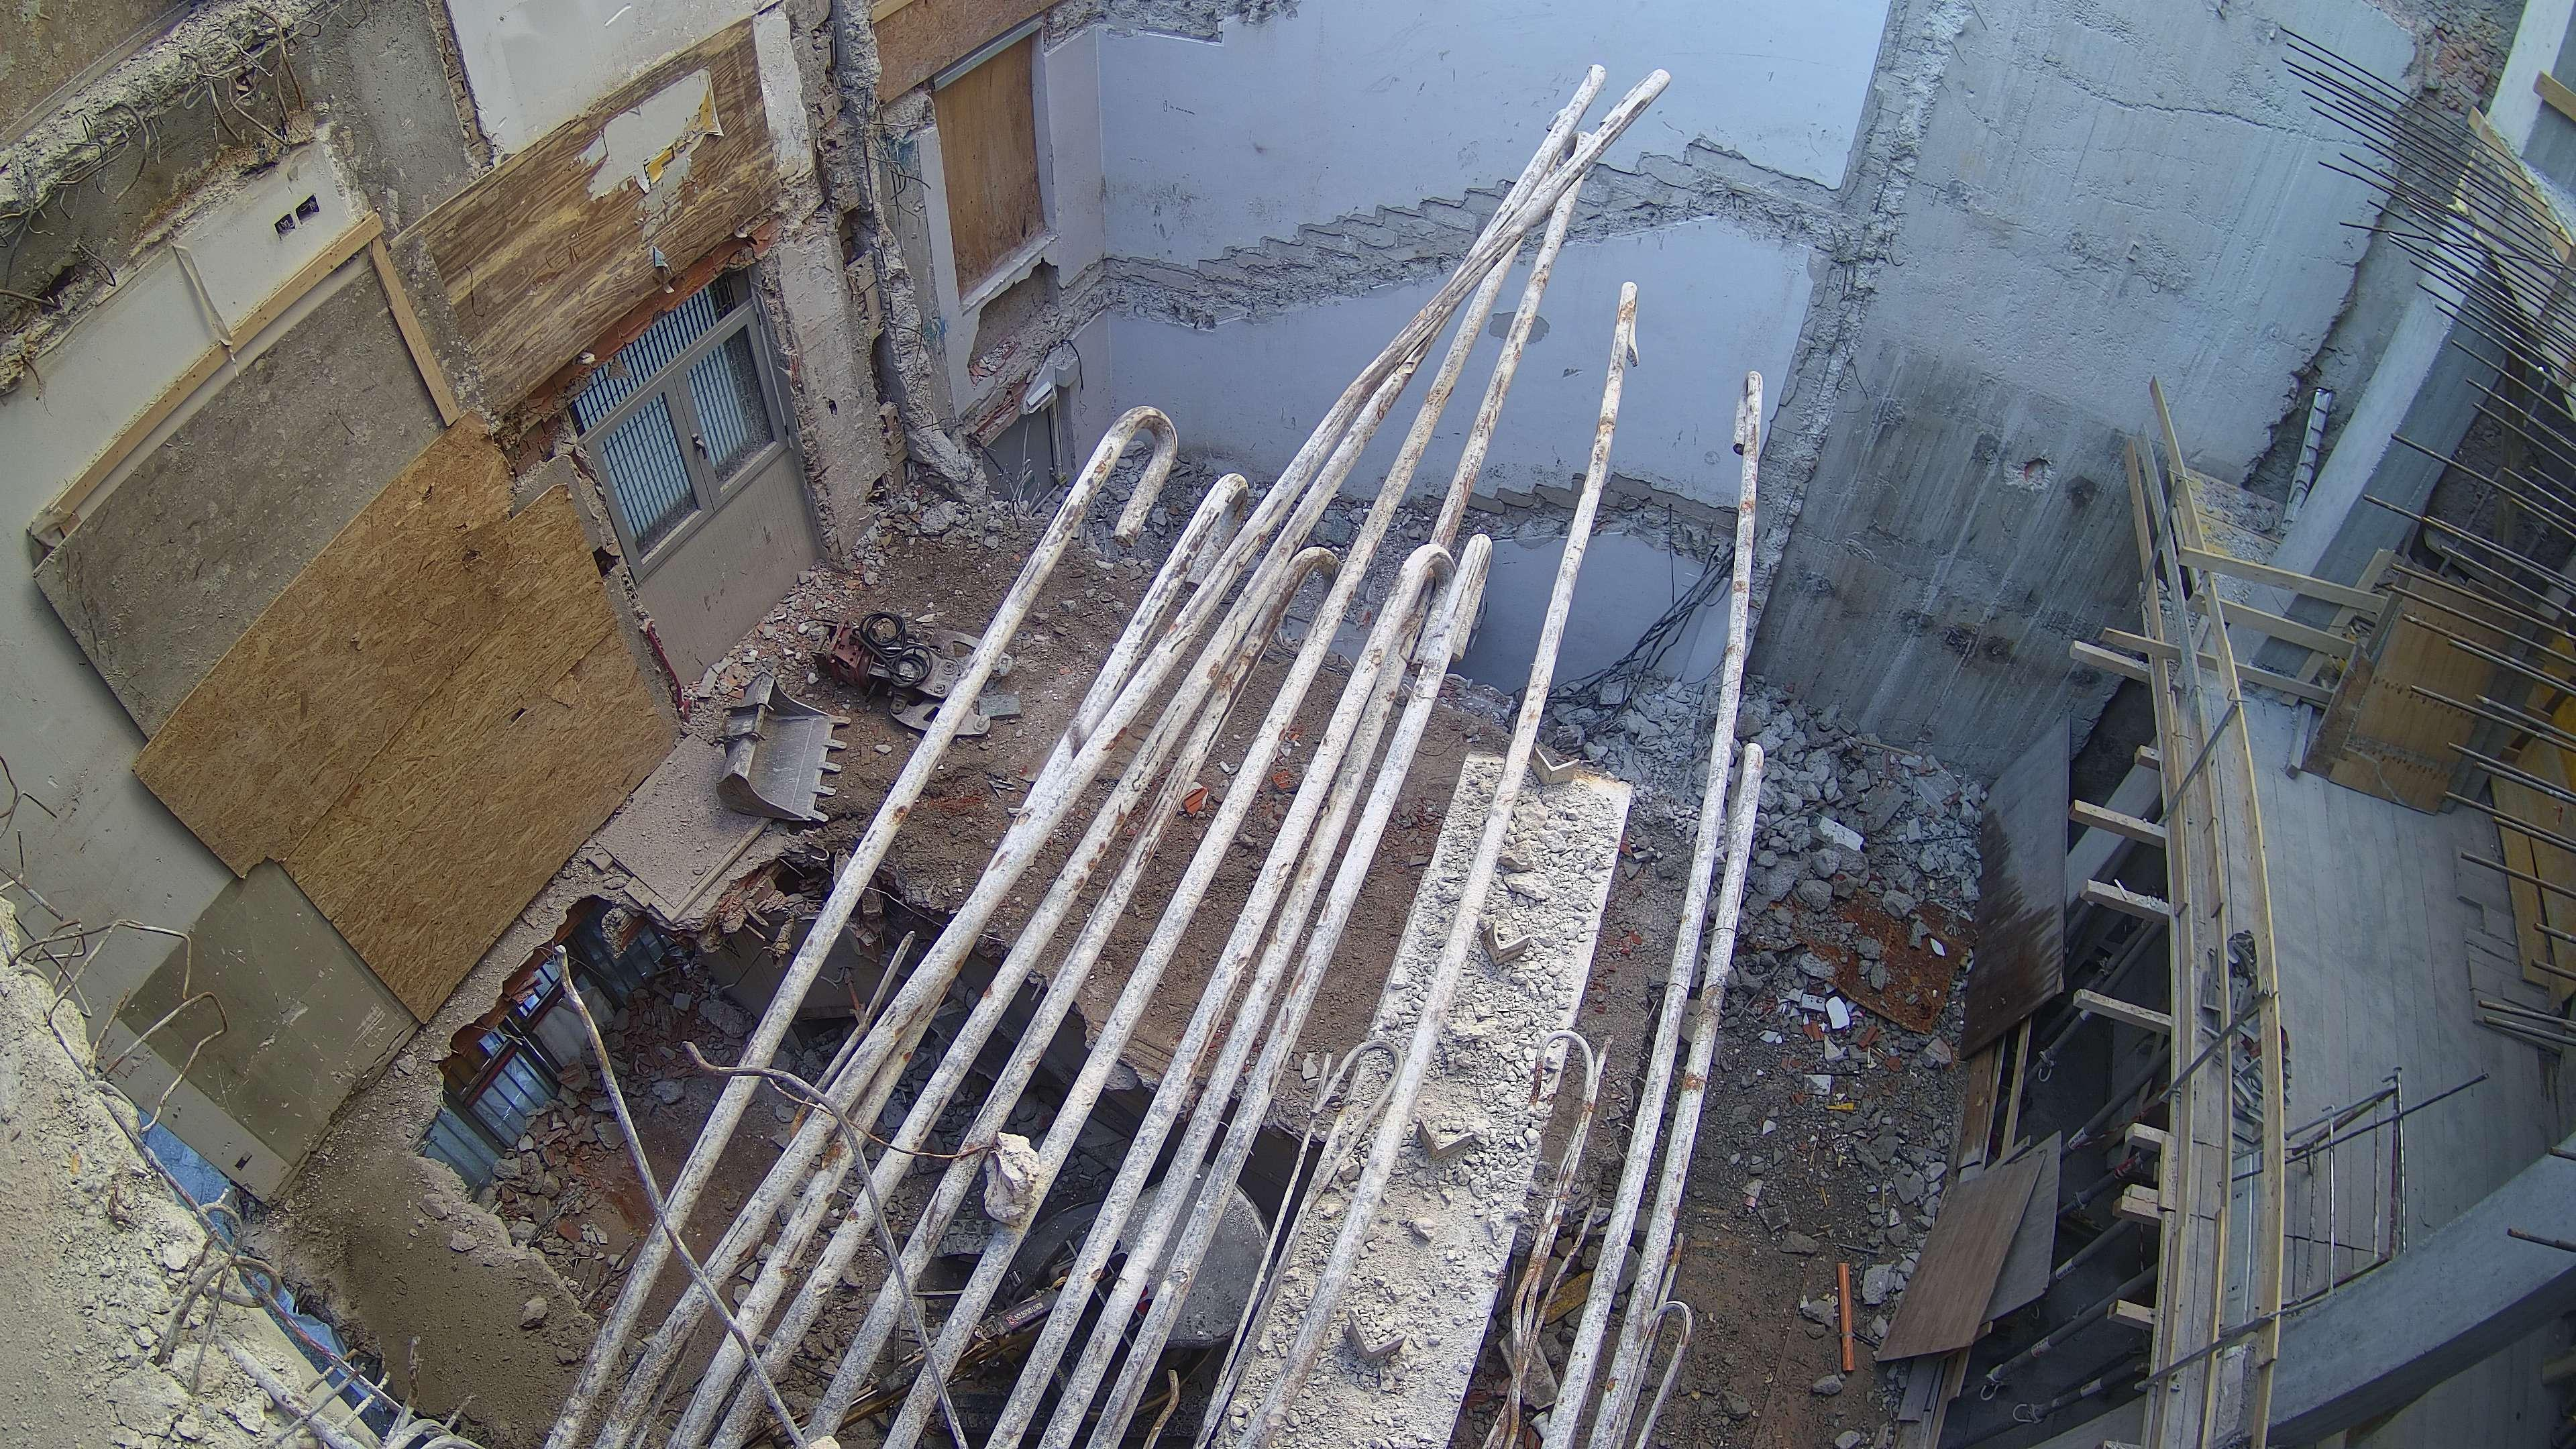excavator: (741, 1157, 1276, 1449)
